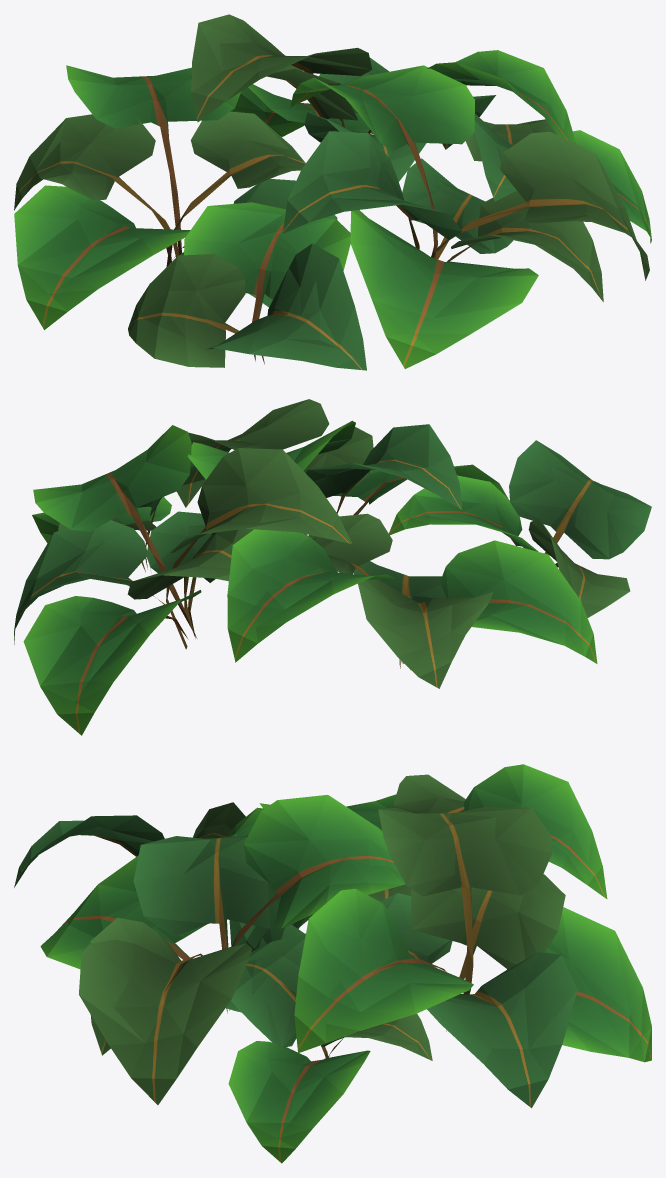
The model's file is Jungle_MedLeaf_D.fbx.
The picture shows the model from 3 angles, top to bottom: view 1: azimuth 30°, elevation 25°; view 2: azimuth 150°, elevation 25°; view 3: azimuth 270°, elevation 25°; orthographic projection. The views are drawn at different scales.
Parts seen in each view (by area): view 1: Jungle_MedLeaf_D; view 2: Jungle_MedLeaf_D; view 3: Jungle_MedLeaf_D.
Part boxes in pixels (x1,y1,x2,y2): Jungle_MedLeaf_D: [14, 14, 651, 370]; Jungle_MedLeaf_D: [14, 399, 651, 735]; Jungle_MedLeaf_D: [14, 764, 651, 1163].
Size of the model in its own units: 2.48 by 0.9444 by 2.35.
